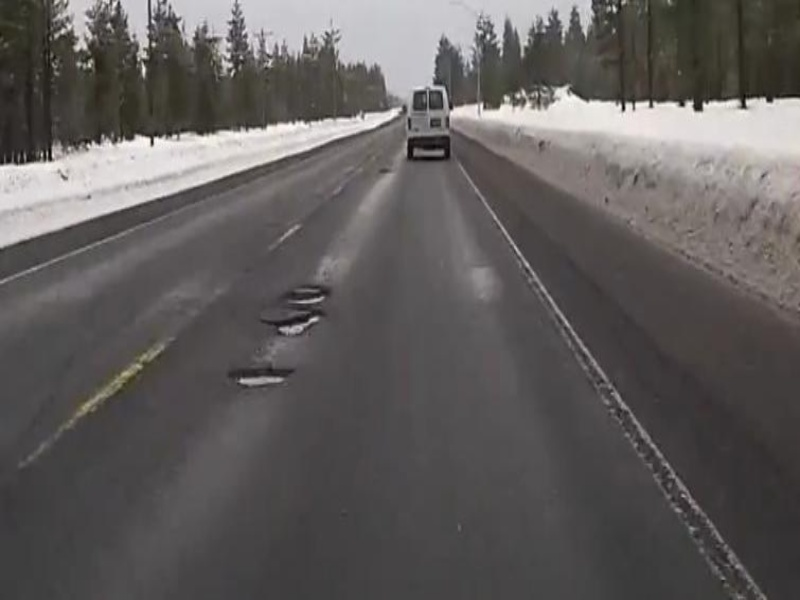pothole: (225, 361, 298, 390), (266, 310, 321, 338), (284, 286, 333, 308)
